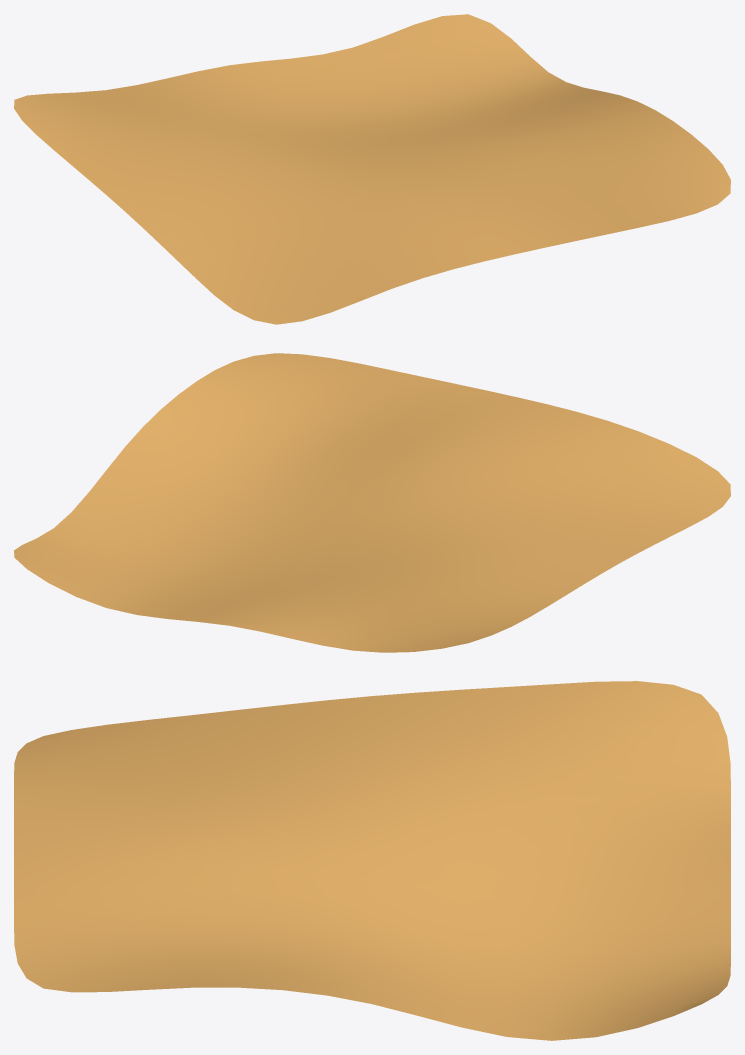
Rendered from rubber_risk_map3.glb.
3 views of the same model, one above another, from view 1: azimuth 30°, elevation 25°; view 2: azimuth 150°, elevation 25°; view 3: azimuth 270°, elevation 25° (orthographic). The views are drawn at different scales.
Parts seen in each view (by area): view 1: basemap; view 2: basemap; view 3: basemap.
Part boxes in pixels (x1,y1,x2,y2): basemap: [14, 14, 730, 324]; basemap: [14, 353, 730, 652]; basemap: [14, 681, 730, 1040].
Bounding box in the file's own units: 5000 × 522 × 5000.
